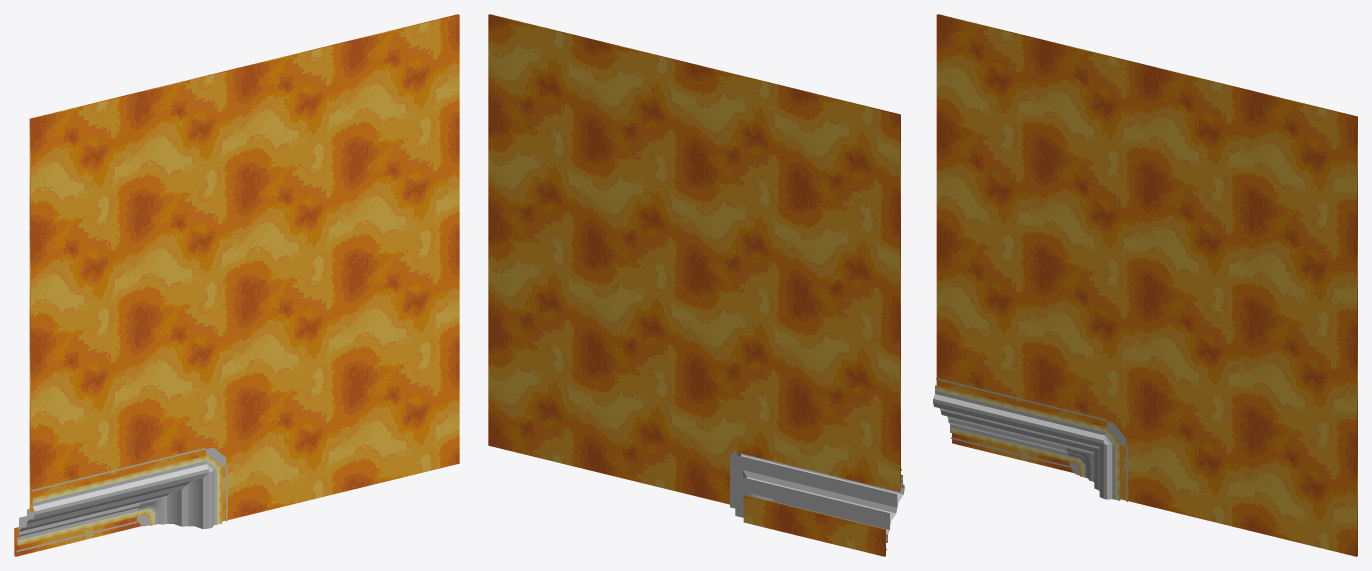
Rendered from Molten-Cave_02_00.obj.
The picture shows the model from 3 angles, left to right: view 1: azimuth 30°, elevation 25°; view 2: azimuth 150°, elevation 25°; view 3: azimuth 330°, elevation 25°; orthographic projection. The views are drawn at different scales.
Visible parts, largest first — view 1: map; view 2: map; view 3: map.
Part boxes in pixels (x1,y1,x2,y2): map: [14, 14, 459, 556]; map: [488, 14, 904, 556]; map: [933, 14, 1357, 556].
Size of the model in its own units: 32 by 32 by 2.62.
